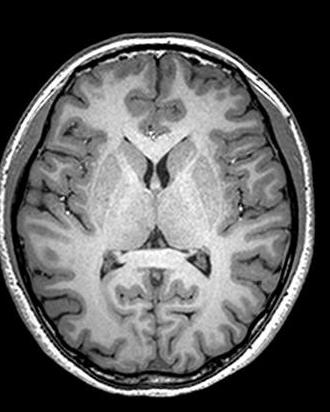Normal_Brain: (1, 1, 330, 412)
